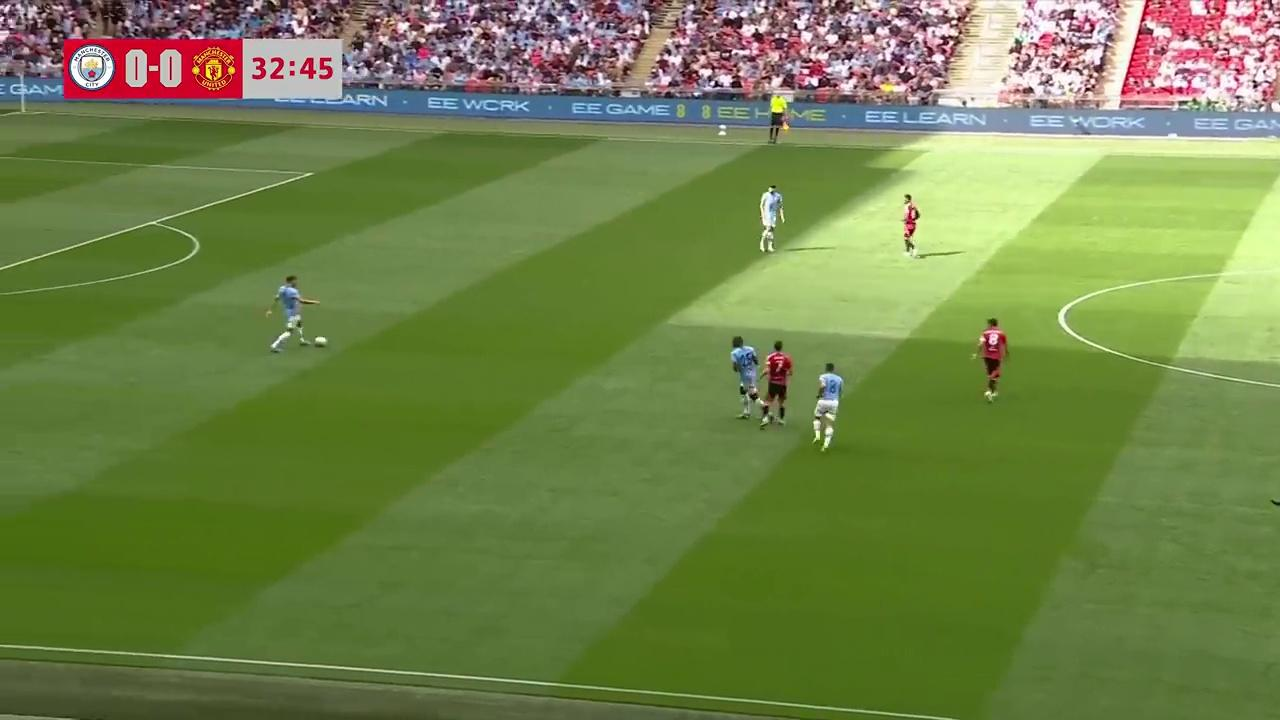ball: (313, 332, 329, 346)
player: (266, 274, 312, 351), (757, 340, 793, 428), (972, 317, 1008, 402), (812, 361, 844, 450), (730, 334, 759, 418), (754, 184, 785, 257), (901, 194, 920, 257)
referee: (767, 97, 790, 144)
